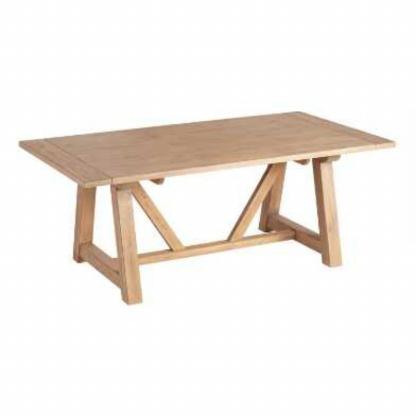Table: (7, 96, 405, 337)
